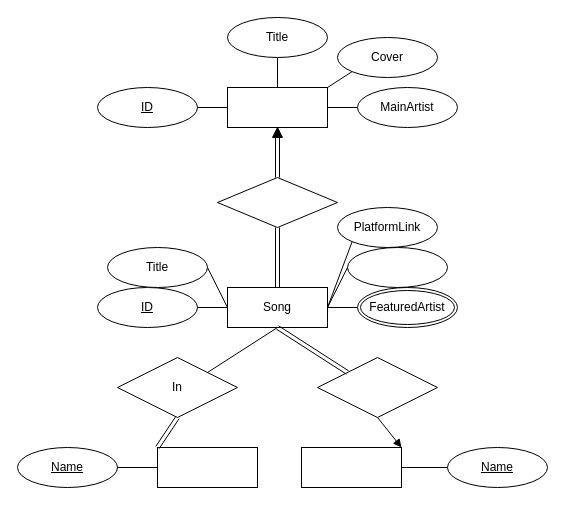
The diagram is 565 pixels wide and 505 high, and some of its shapes have lost their labels. Here are the shapes that lost their labels. From the top down, the box of each, then its label:
(226, 86, 328, 128): Album
(216, 176, 338, 228): Belongs
(346, 246, 448, 288): Explicit
(316, 356, 438, 418): Is
(156, 446, 258, 488): Tag
(300, 446, 402, 488): Genre
